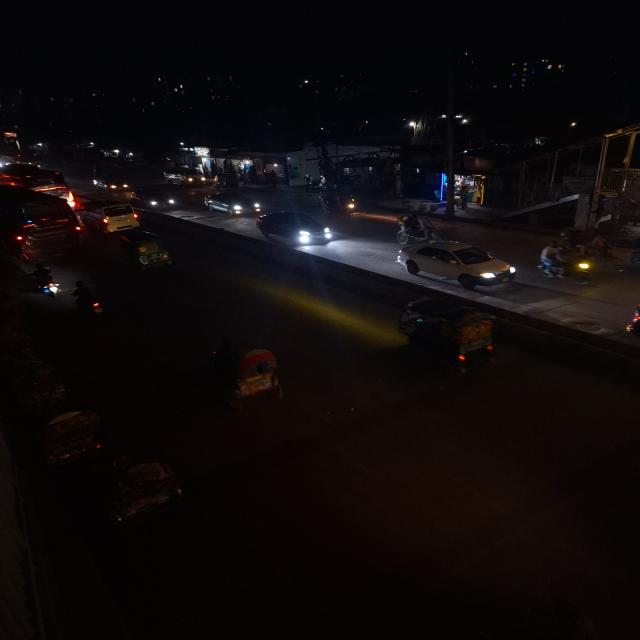bus: (0, 184, 86, 256)
car: (394, 240, 519, 292), (252, 209, 338, 249), (1, 163, 70, 193), (200, 190, 265, 218), (133, 186, 180, 210)
cng: (390, 298, 507, 374), (116, 229, 176, 274), (79, 197, 143, 233)
motorcycle: (532, 242, 598, 282), (69, 278, 111, 323), (390, 212, 442, 242), (28, 262, 62, 298), (623, 297, 640, 339)
rickshaw: (392, 298, 507, 372), (4, 397, 113, 473), (90, 453, 186, 534), (200, 333, 292, 412), (9, 356, 73, 410)
